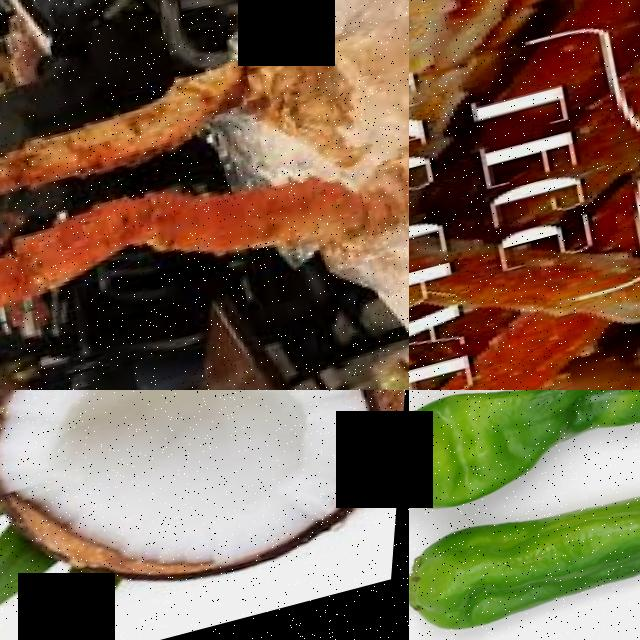chilli: (409, 410, 640, 640), (409, 390, 640, 513), (409, 549, 640, 640)
coconut: (0, 390, 409, 621)
crab: (0, 127, 409, 357), (0, 38, 351, 208)
